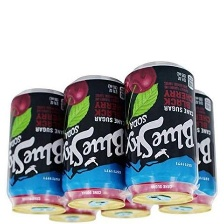can: (123, 61, 200, 207), (59, 79, 128, 211), (155, 89, 218, 217), (7, 87, 67, 215), (98, 199, 152, 218), (44, 208, 97, 224)
